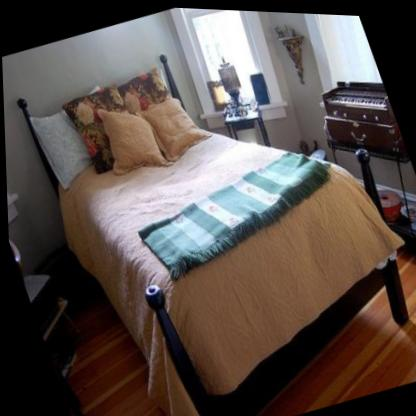Bed: (18, 67, 406, 416)
